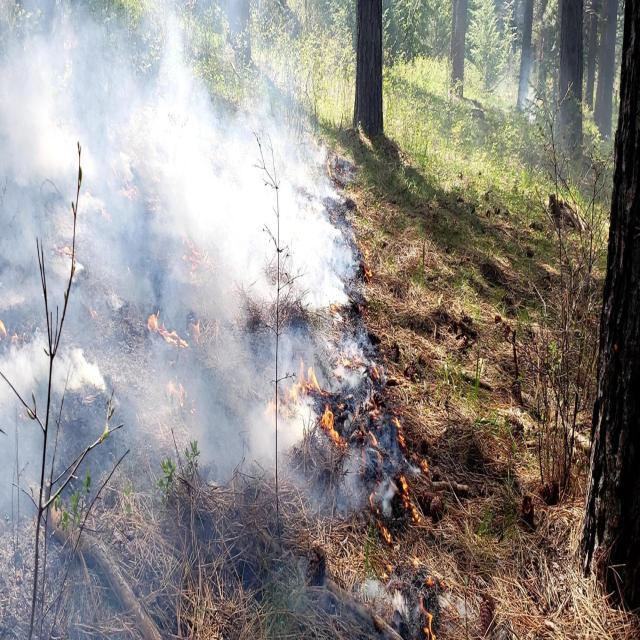Fire: (304, 360, 348, 464)
Smoke: (0, 0, 332, 578)
